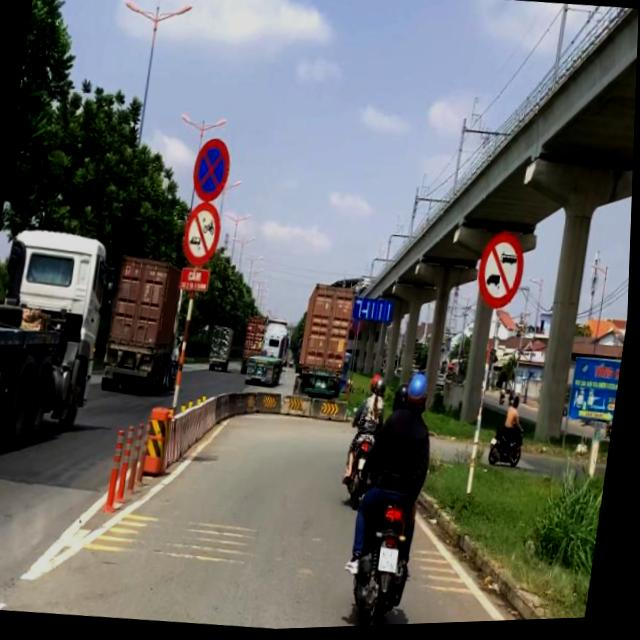Cam dung xe va do xe: (189, 136, 236, 207)
